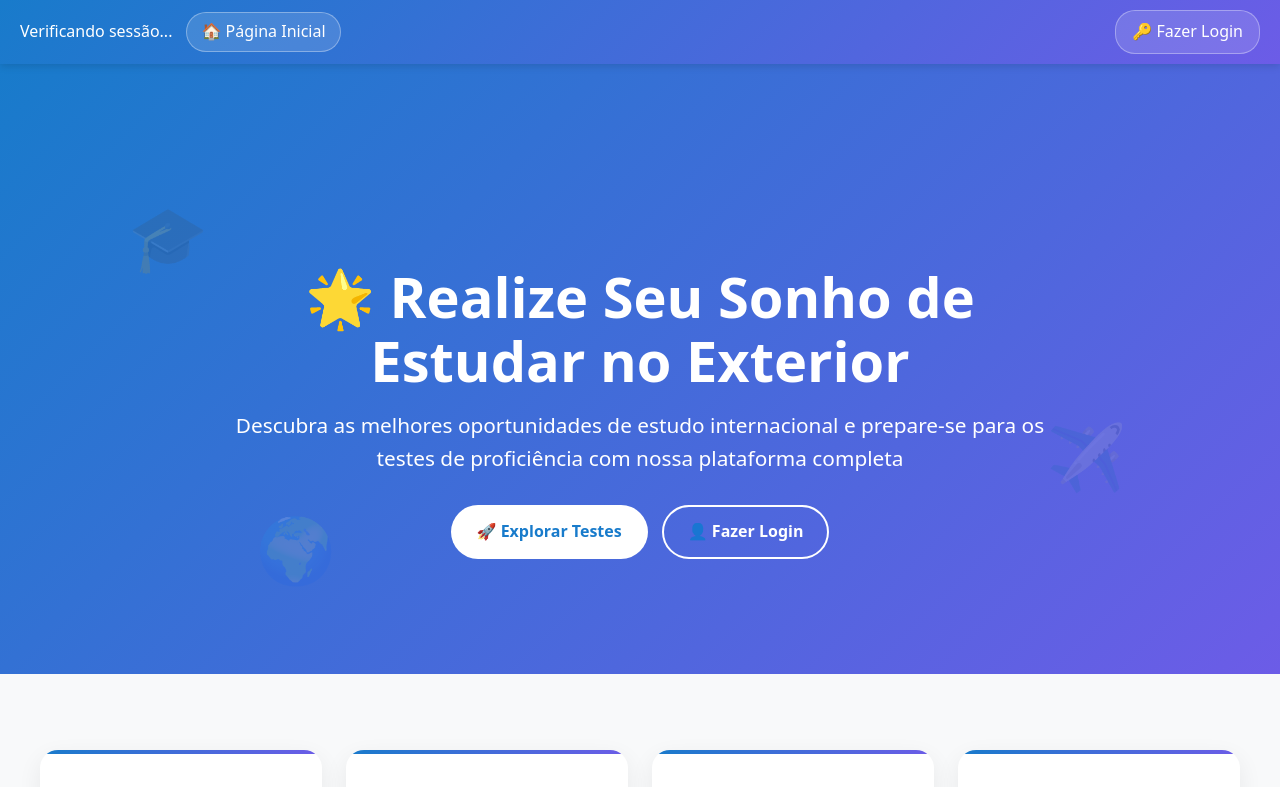
it: public pages › renders the home page and navigates to the public catalog
Click the link "🚀 Explorar Testes" at (549, 532), box [450,505,648,559]
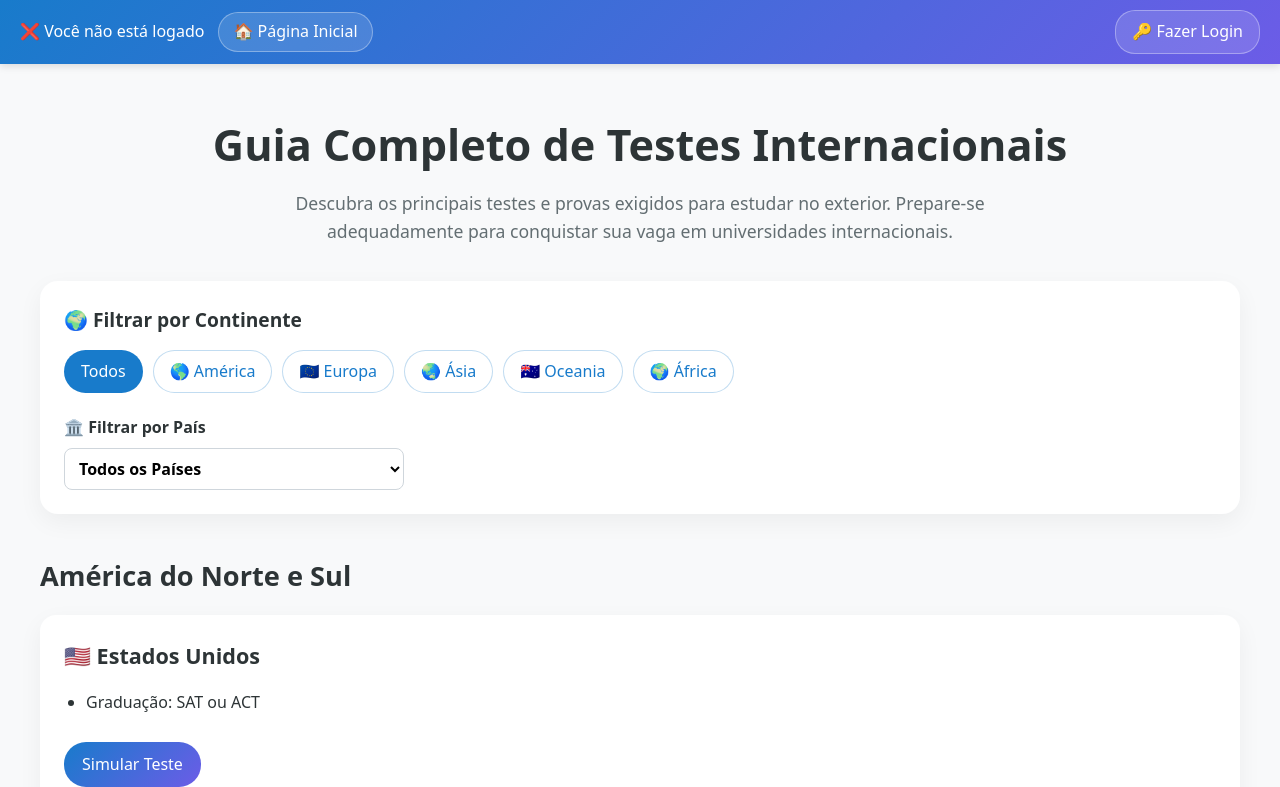
Now the heading "Guia Completo de Testes Internacionais" is shown, box [213,115,1067,174]
Now the heading "🇺🇸 Estados Unidos" is shown, box [64,641,260,670]
